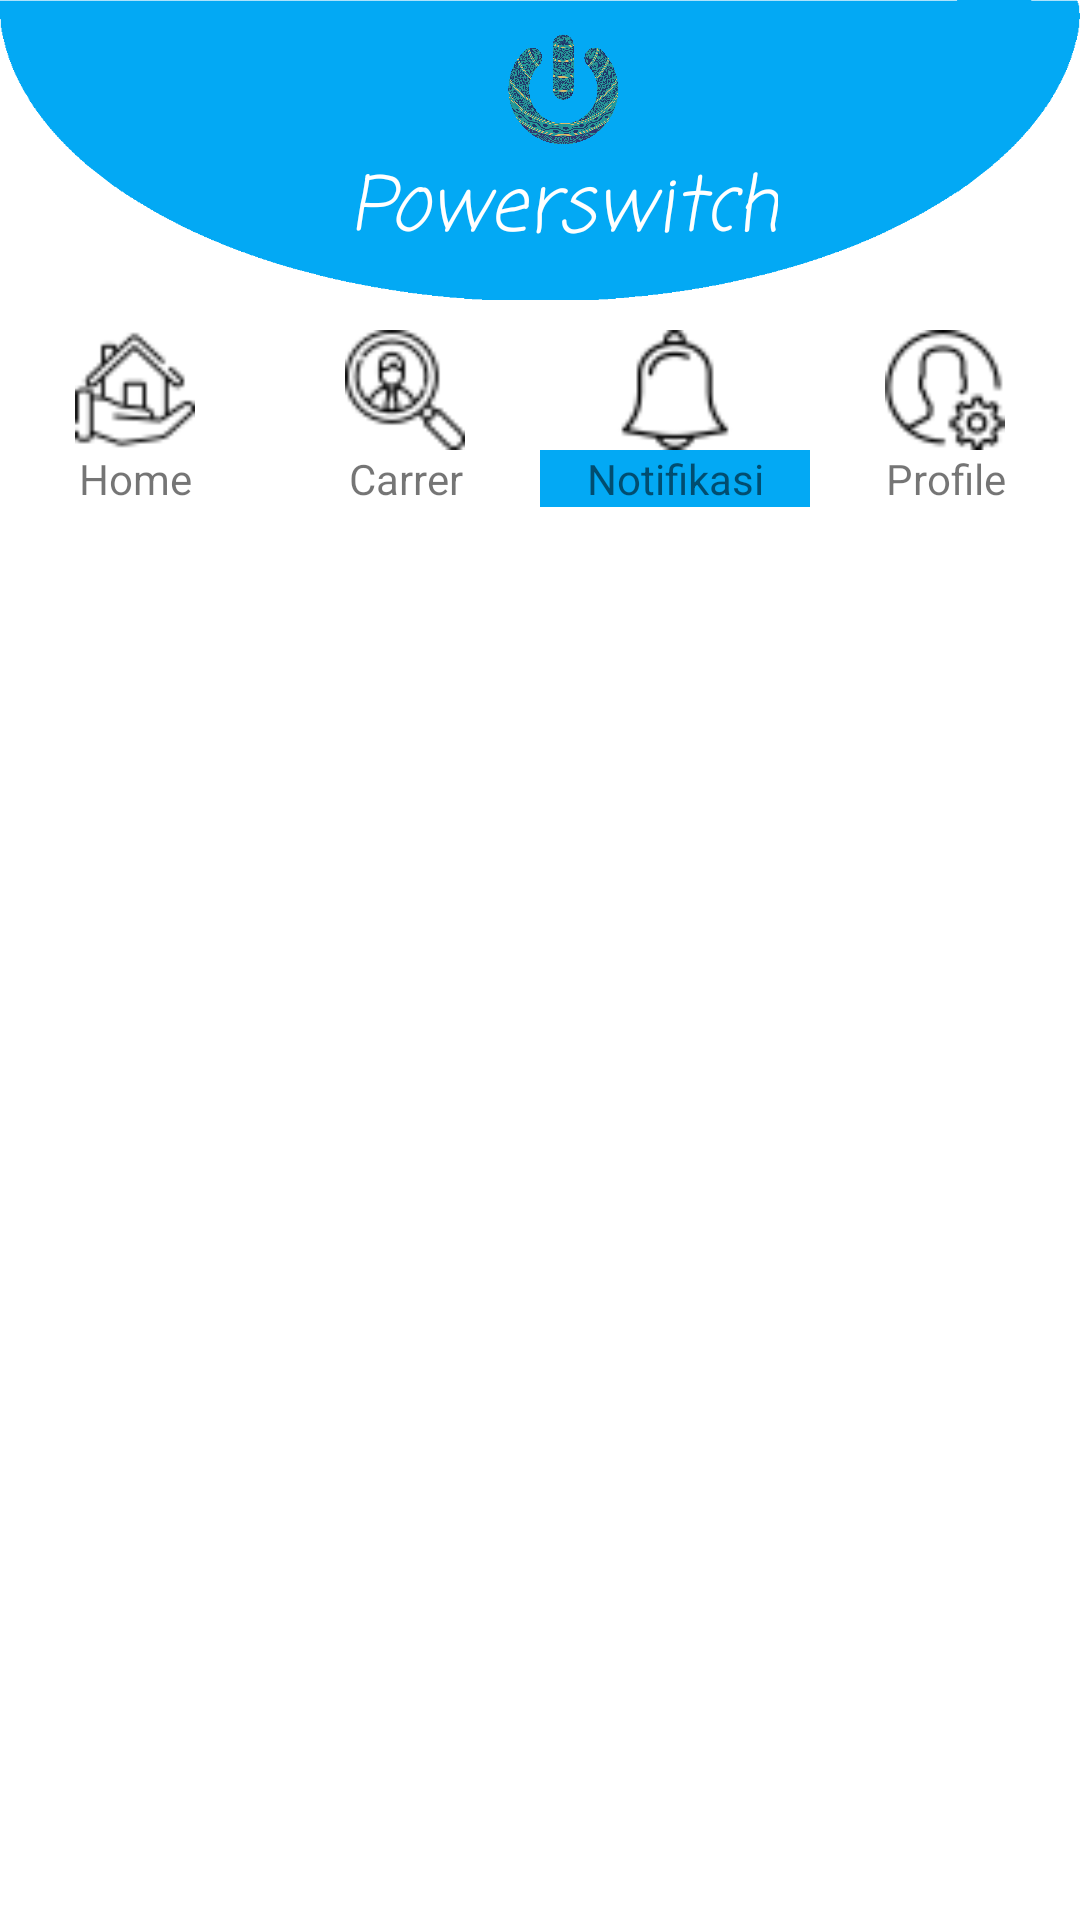

Icons on this 1080 × 1920 Android screen, each with its box as {"x1": x1, "y1": y1, "x2": x2, "y2": y2}:
alarm: {"x1": 621, "y1": 330, "x2": 729, "y2": 450}
search: {"x1": 345, "y1": 330, "x2": 465, "y2": 450}
user: {"x1": 885, "y1": 330, "x2": 1005, "y2": 450}
